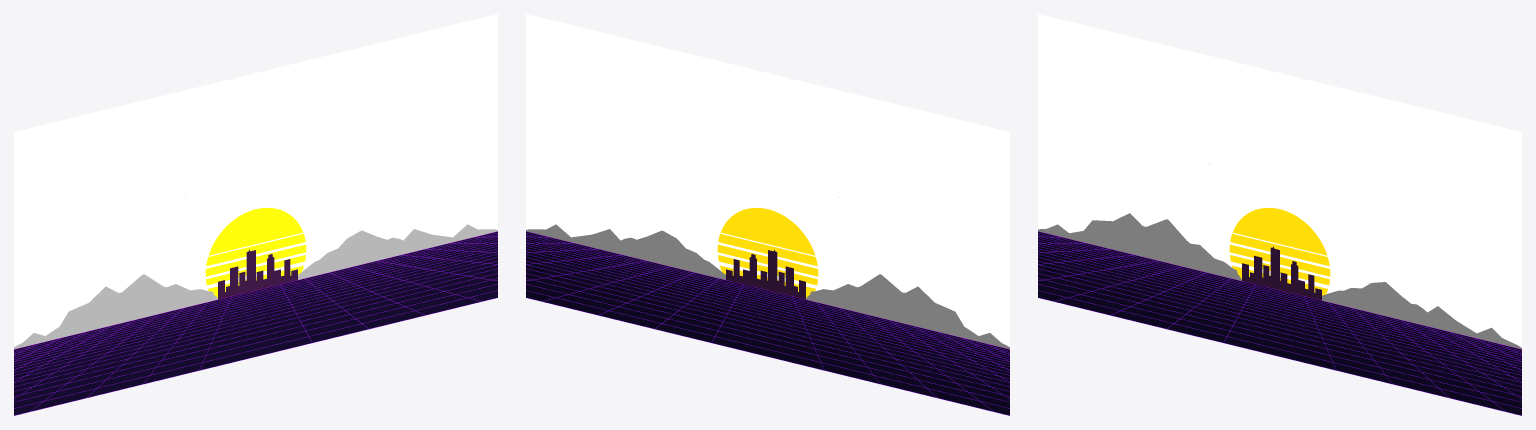
Rendered from sunset.glb.
3 renders of one model, left to right at view 1: azimuth 30°, elevation 25°; view 2: azimuth 150°, elevation 25°; view 3: azimuth 330°, elevation 25°, orthographic.
Parts seen in each view (by area): view 1: image; view 2: image; view 3: image.
Boxes of the visible parts, <box> form: image: <box>14,14,497,415</box>; image: <box>526,14,1009,415</box>; image: <box>1038,14,1521,415</box>.
Size of the model in its own units: 8.65 by 4.85 by 1.08e-15.
